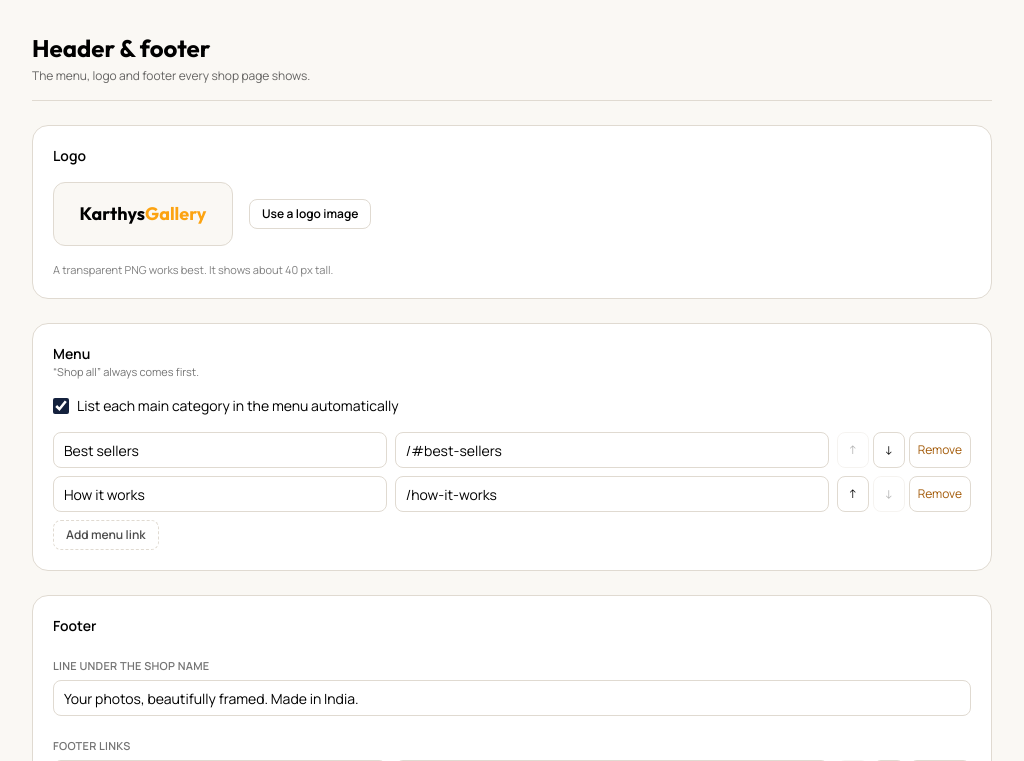
it: admin header & footer › refuses links that would not work
Replace the text in the field showing "Best sellers" with "Sale" at (220, 450), box left=53, top=432, right=387, bottom=468
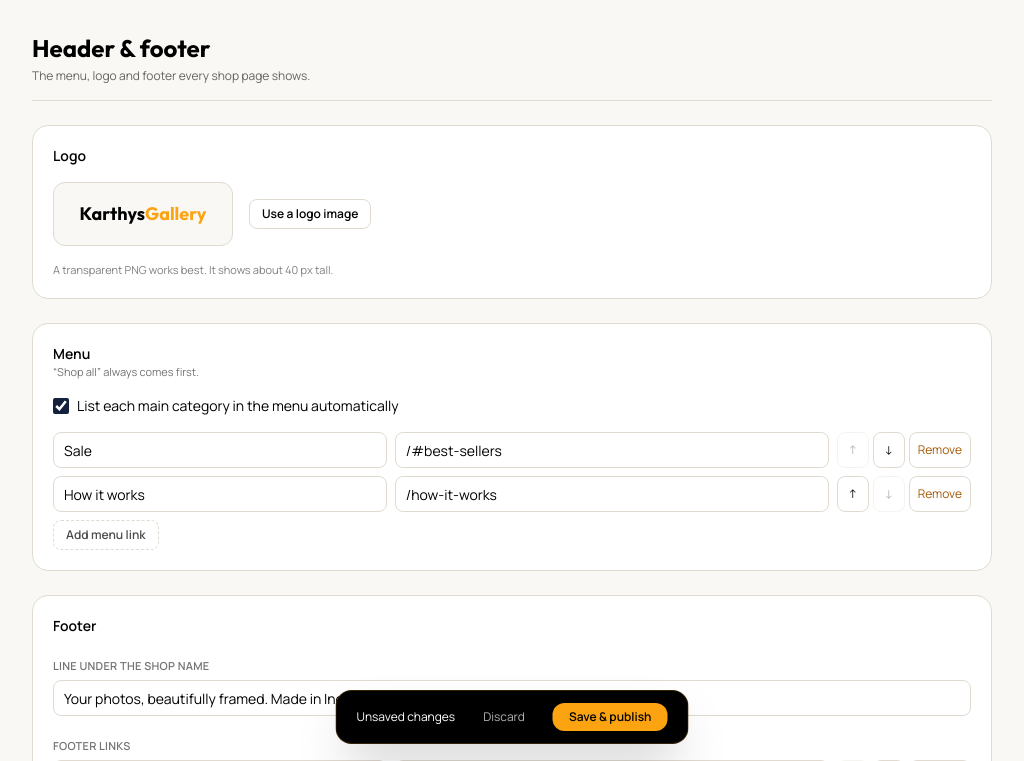
Replace the text in the field named "Menu link 1 address" with "sale" at (612, 450), box left=395, top=432, right=829, bottom=468
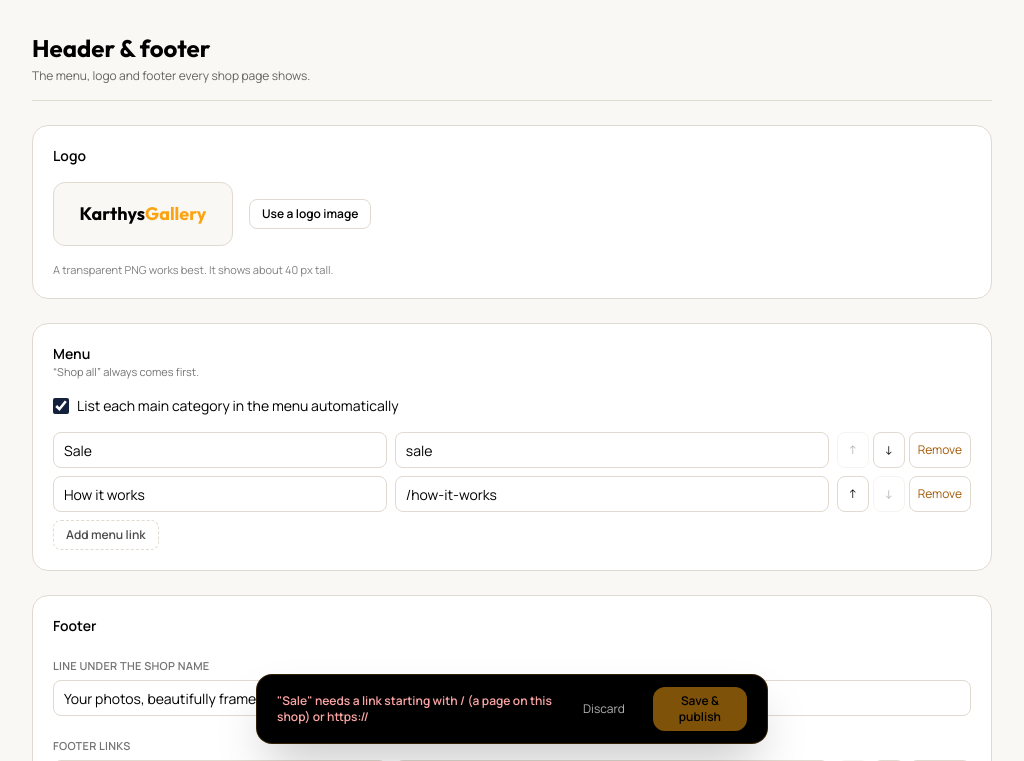
Expected: the text "needs a link starting with" is shown, left=277, top=692, right=552, bottom=725
Expected: the button "Save & publish" is disabled, left=653, top=687, right=747, bottom=731
